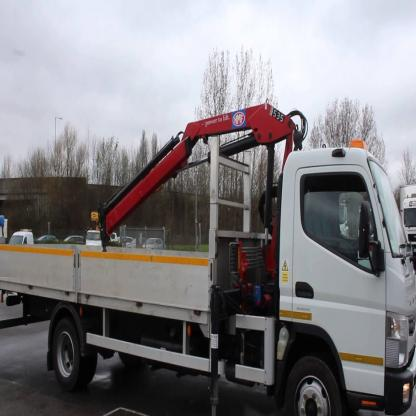truck: (1, 101, 416, 416)
